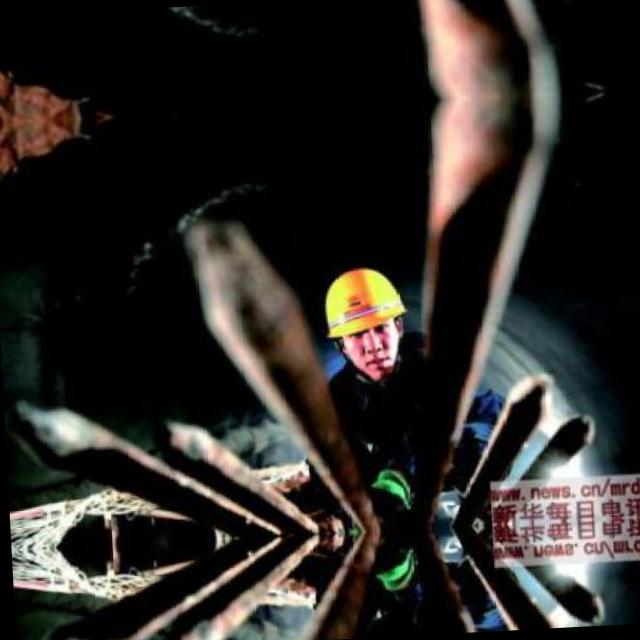helmet: (314, 252, 418, 388)
